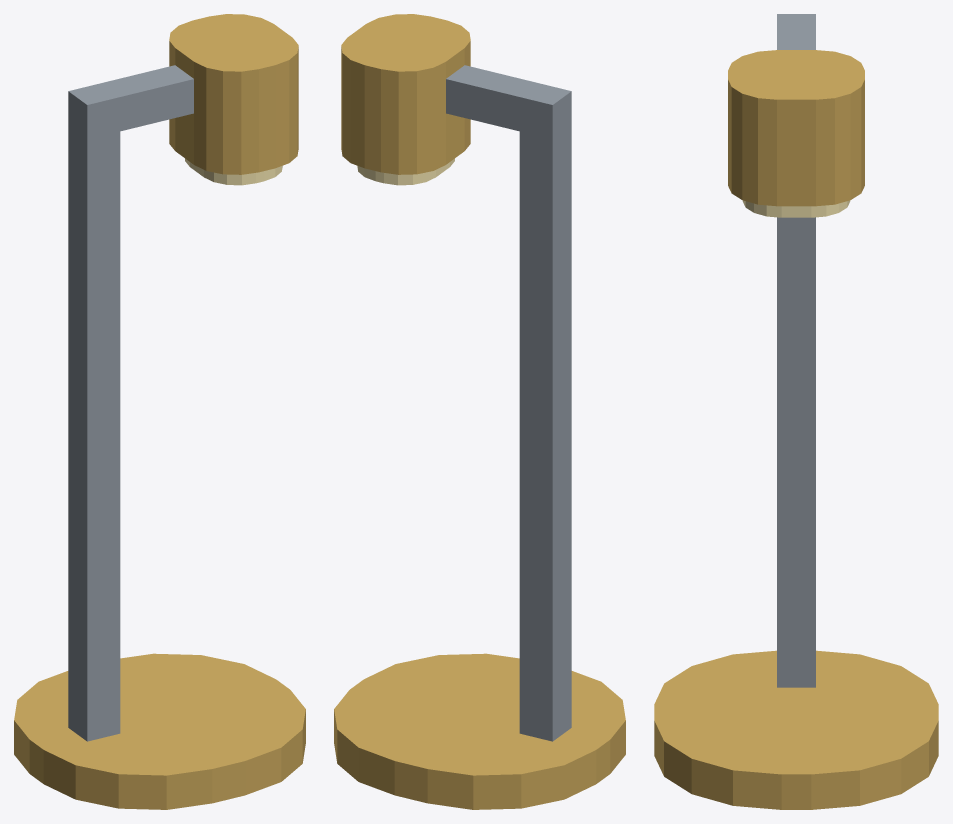
Rendered from desk_lamp.glb.
3 renders of one model, left to right at view 1: azimuth 30°, elevation 25°; view 2: azimuth 150°, elevation 25°; view 3: azimuth 270°, elevation 25°, orthographic. The views are drawn at different scales.
Visible parts, largest first — view 1: desk_lamp_Body; view 2: desk_lamp_Body; view 3: desk_lamp_Body.
Part boxes in pixels (<box>): desk_lamp_Body: <box>14,14,305,809</box>; desk_lamp_Body: <box>334,14,625,809</box>; desk_lamp_Body: <box>654,14,938,809</box>.
Bounding box in the file's own units: 0.3 × 0.8 × 0.29.
